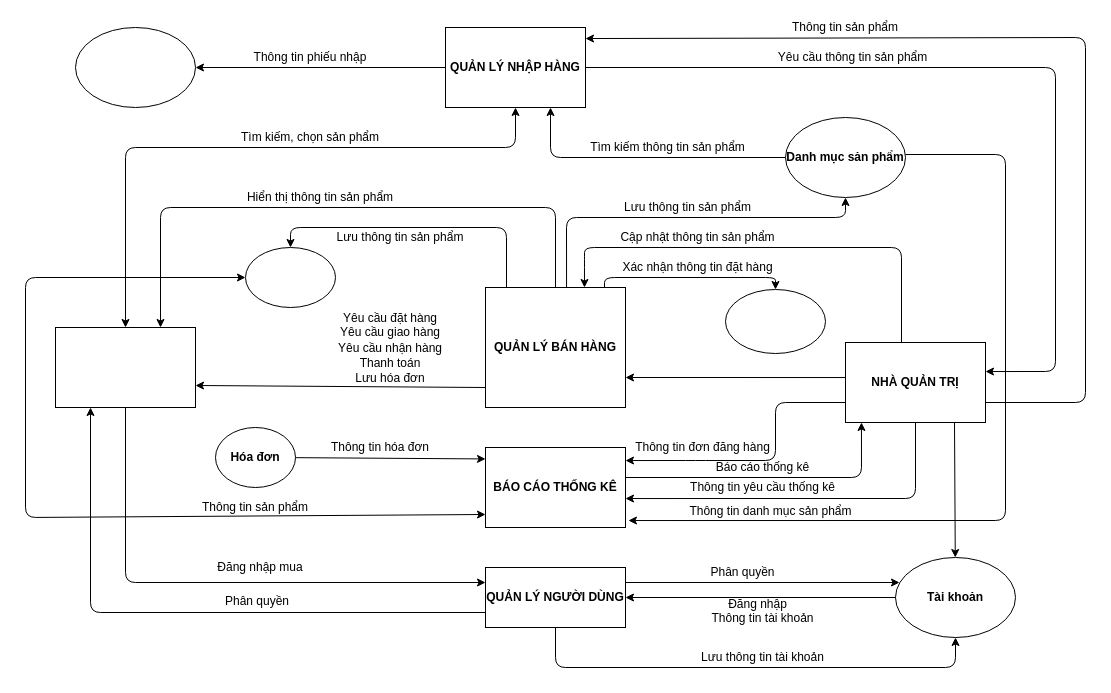
The diagram is 1111 pixels wide and 693 high, and some of its shapes have lost their labels. Here are the shapes that lost their labels. From the top down, the centre of each, then its label:
At point (135, 67): "Phiếu nhập".
At point (290, 277): "Giỏ hàng".
At point (775, 321): "Đơn đặt hàng".
At point (125, 367): "KHÁCH HÀNG".
